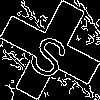S: (25, 25, 76, 82)
